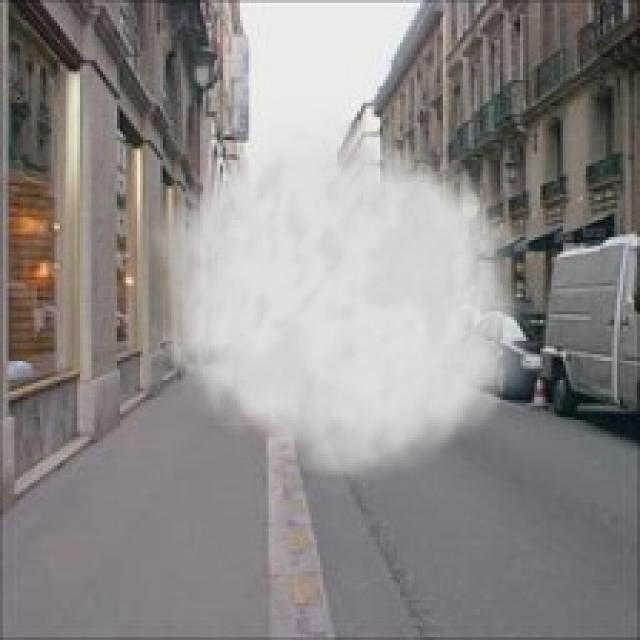smoke: (145, 97, 546, 492)
